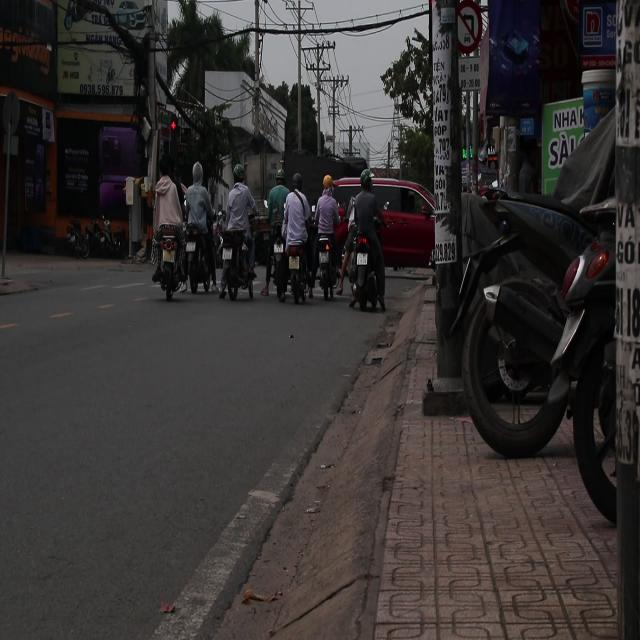car: (311, 165, 447, 299)
motorbike: (144, 187, 190, 309), (178, 202, 222, 305), (346, 218, 390, 320), (215, 212, 255, 301), (277, 218, 314, 305), (261, 218, 294, 304), (313, 214, 334, 306)
